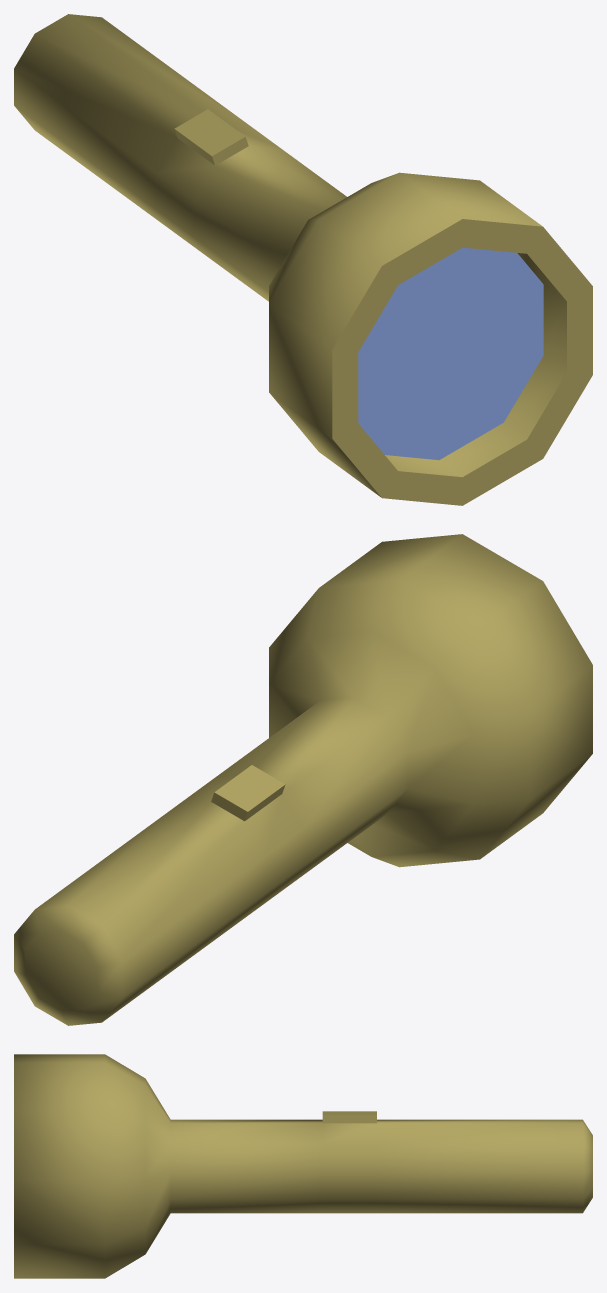
Rendered from Flashlight.fbx.
3 renders of one model, top to bottom at view 1: azimuth 30°, elevation 25°; view 2: azimuth 150°, elevation 25°; view 3: azimuth 270°, elevation 25°, orthographic. The views are drawn at different scales.
Parts seen in each view (by area): view 1: Flashlight; view 2: Flashlight; view 3: Flashlight.
Boxes of the visible parts, <box> form: Flashlight: <box>14,14,592,505</box>; Flashlight: <box>14,534,592,1025</box>; Flashlight: <box>14,1054,592,1278</box>.
Bounding box in the file's own units: 10.6 × 11.14 × 28.24.
